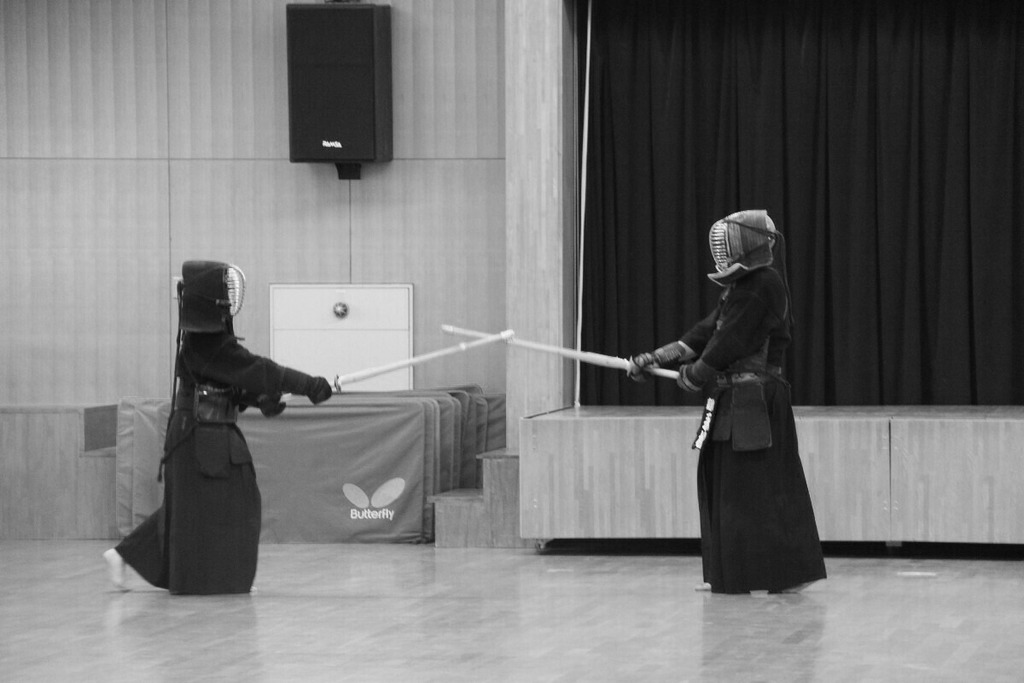Human_hand: (625, 351, 660, 388), (672, 360, 703, 394), (304, 375, 333, 405), (261, 399, 287, 417)
